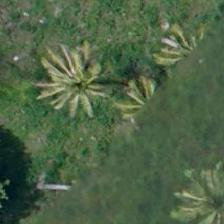Kelapa_Sawit: (32, 36, 122, 126), (94, 62, 184, 152), (146, 4, 224, 94), (168, 145, 224, 224)
